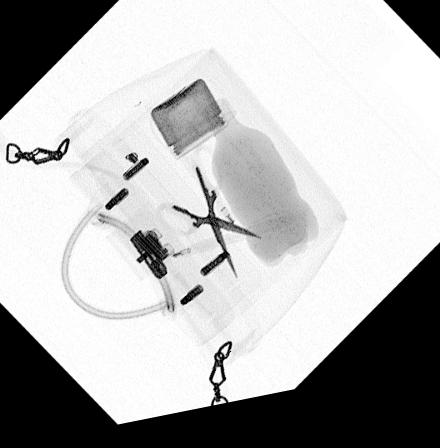Scissors: (148, 148, 265, 292)
